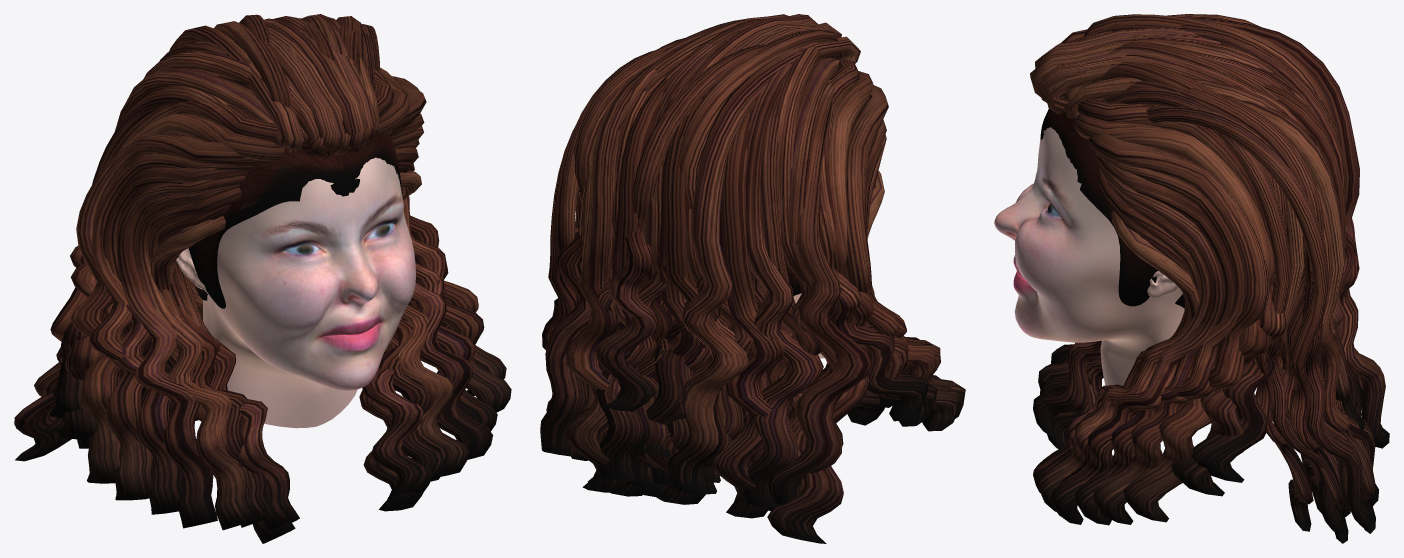
Rendered from disgust.obj.
3 views of the same model, side by side, from view 1: azimuth 30°, elevation 25°; view 2: azimuth 150°, elevation 25°; view 3: azimuth 270°, elevation 25° (orthographic). The views are drawn at different scales.
Visible parts, largest first — view 1: disgust; view 2: disgust; view 3: disgust.
Boxes of the visible parts, box(x1,y1,x2,y2) form: disgust: box(14, 14, 511, 543); disgust: box(540, 14, 965, 543); disgust: box(994, 14, 1389, 543).
Size of the model in its own units: 365 by 387 by 299.
